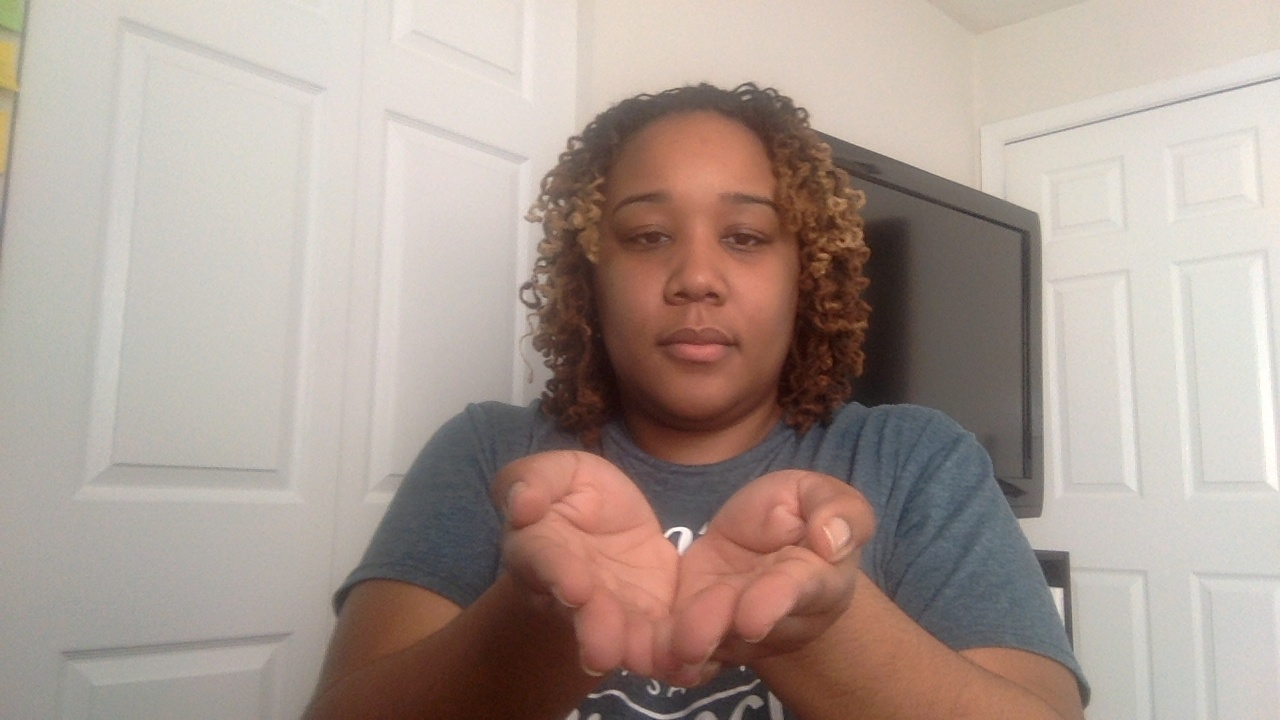book: (480, 453, 886, 703)
